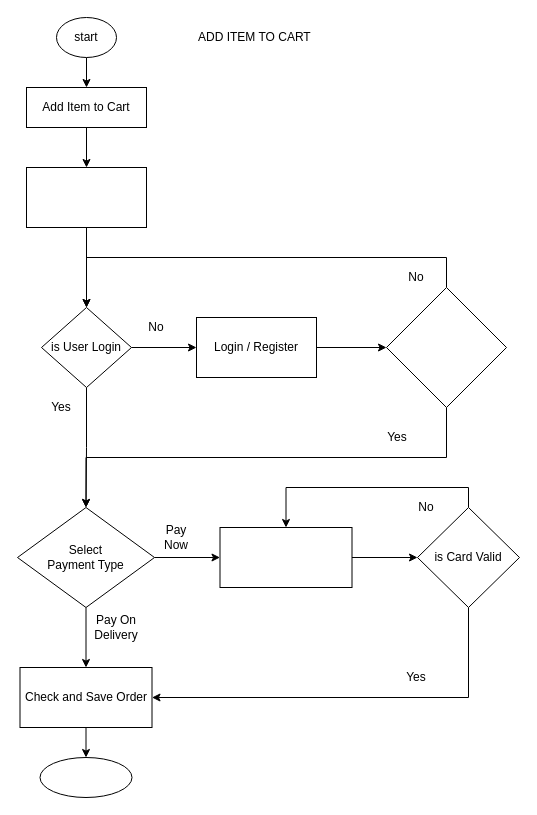
This 537x815 diagram has some shape labels left out. Each missing label, with the centre of its shape:
Check Out Cart: (86,197)
Enter Card Information: (285,557)
is Login / Register Succesfull: (446,347)
stop: (85,777)
